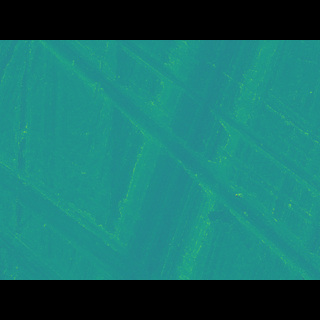Loch: (29, 69, 320, 250), (0, 151, 165, 251)
